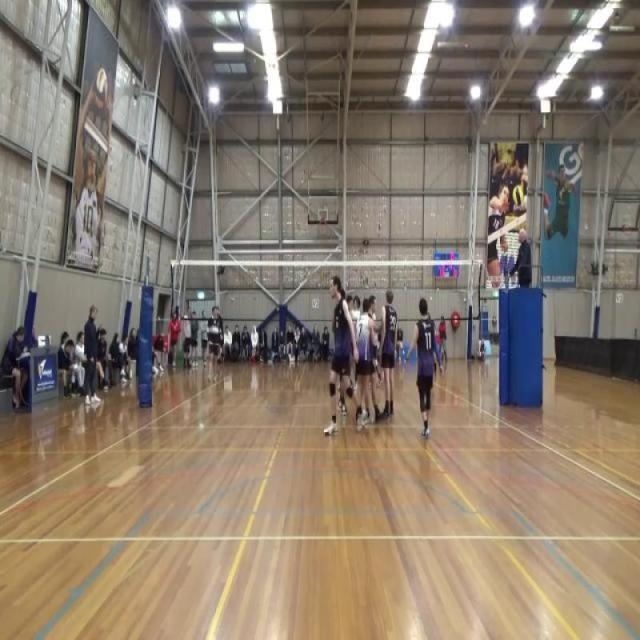volleyball: (94, 67, 108, 111), (512, 184, 524, 207)
